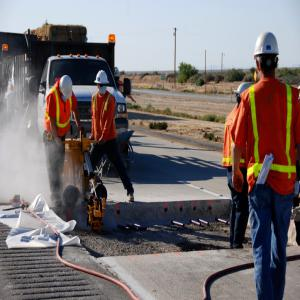white: (255, 32, 281, 78), (59, 76, 74, 102), (236, 83, 252, 107), (95, 70, 109, 95)
